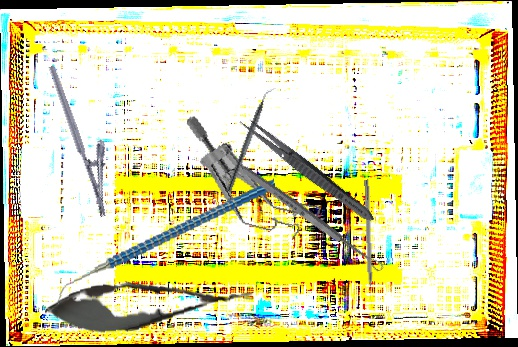Chopper: (45, 178, 287, 308), (226, 84, 277, 195)
Dressing Forceps: (236, 113, 379, 227)
Hook Surgical: (363, 179, 374, 307)
Micro Scissor: (42, 269, 257, 339)
Needle Holder: (47, 57, 128, 219)
Speculum: (163, 113, 343, 249)
Surgical Spoon: (239, 164, 386, 274)
